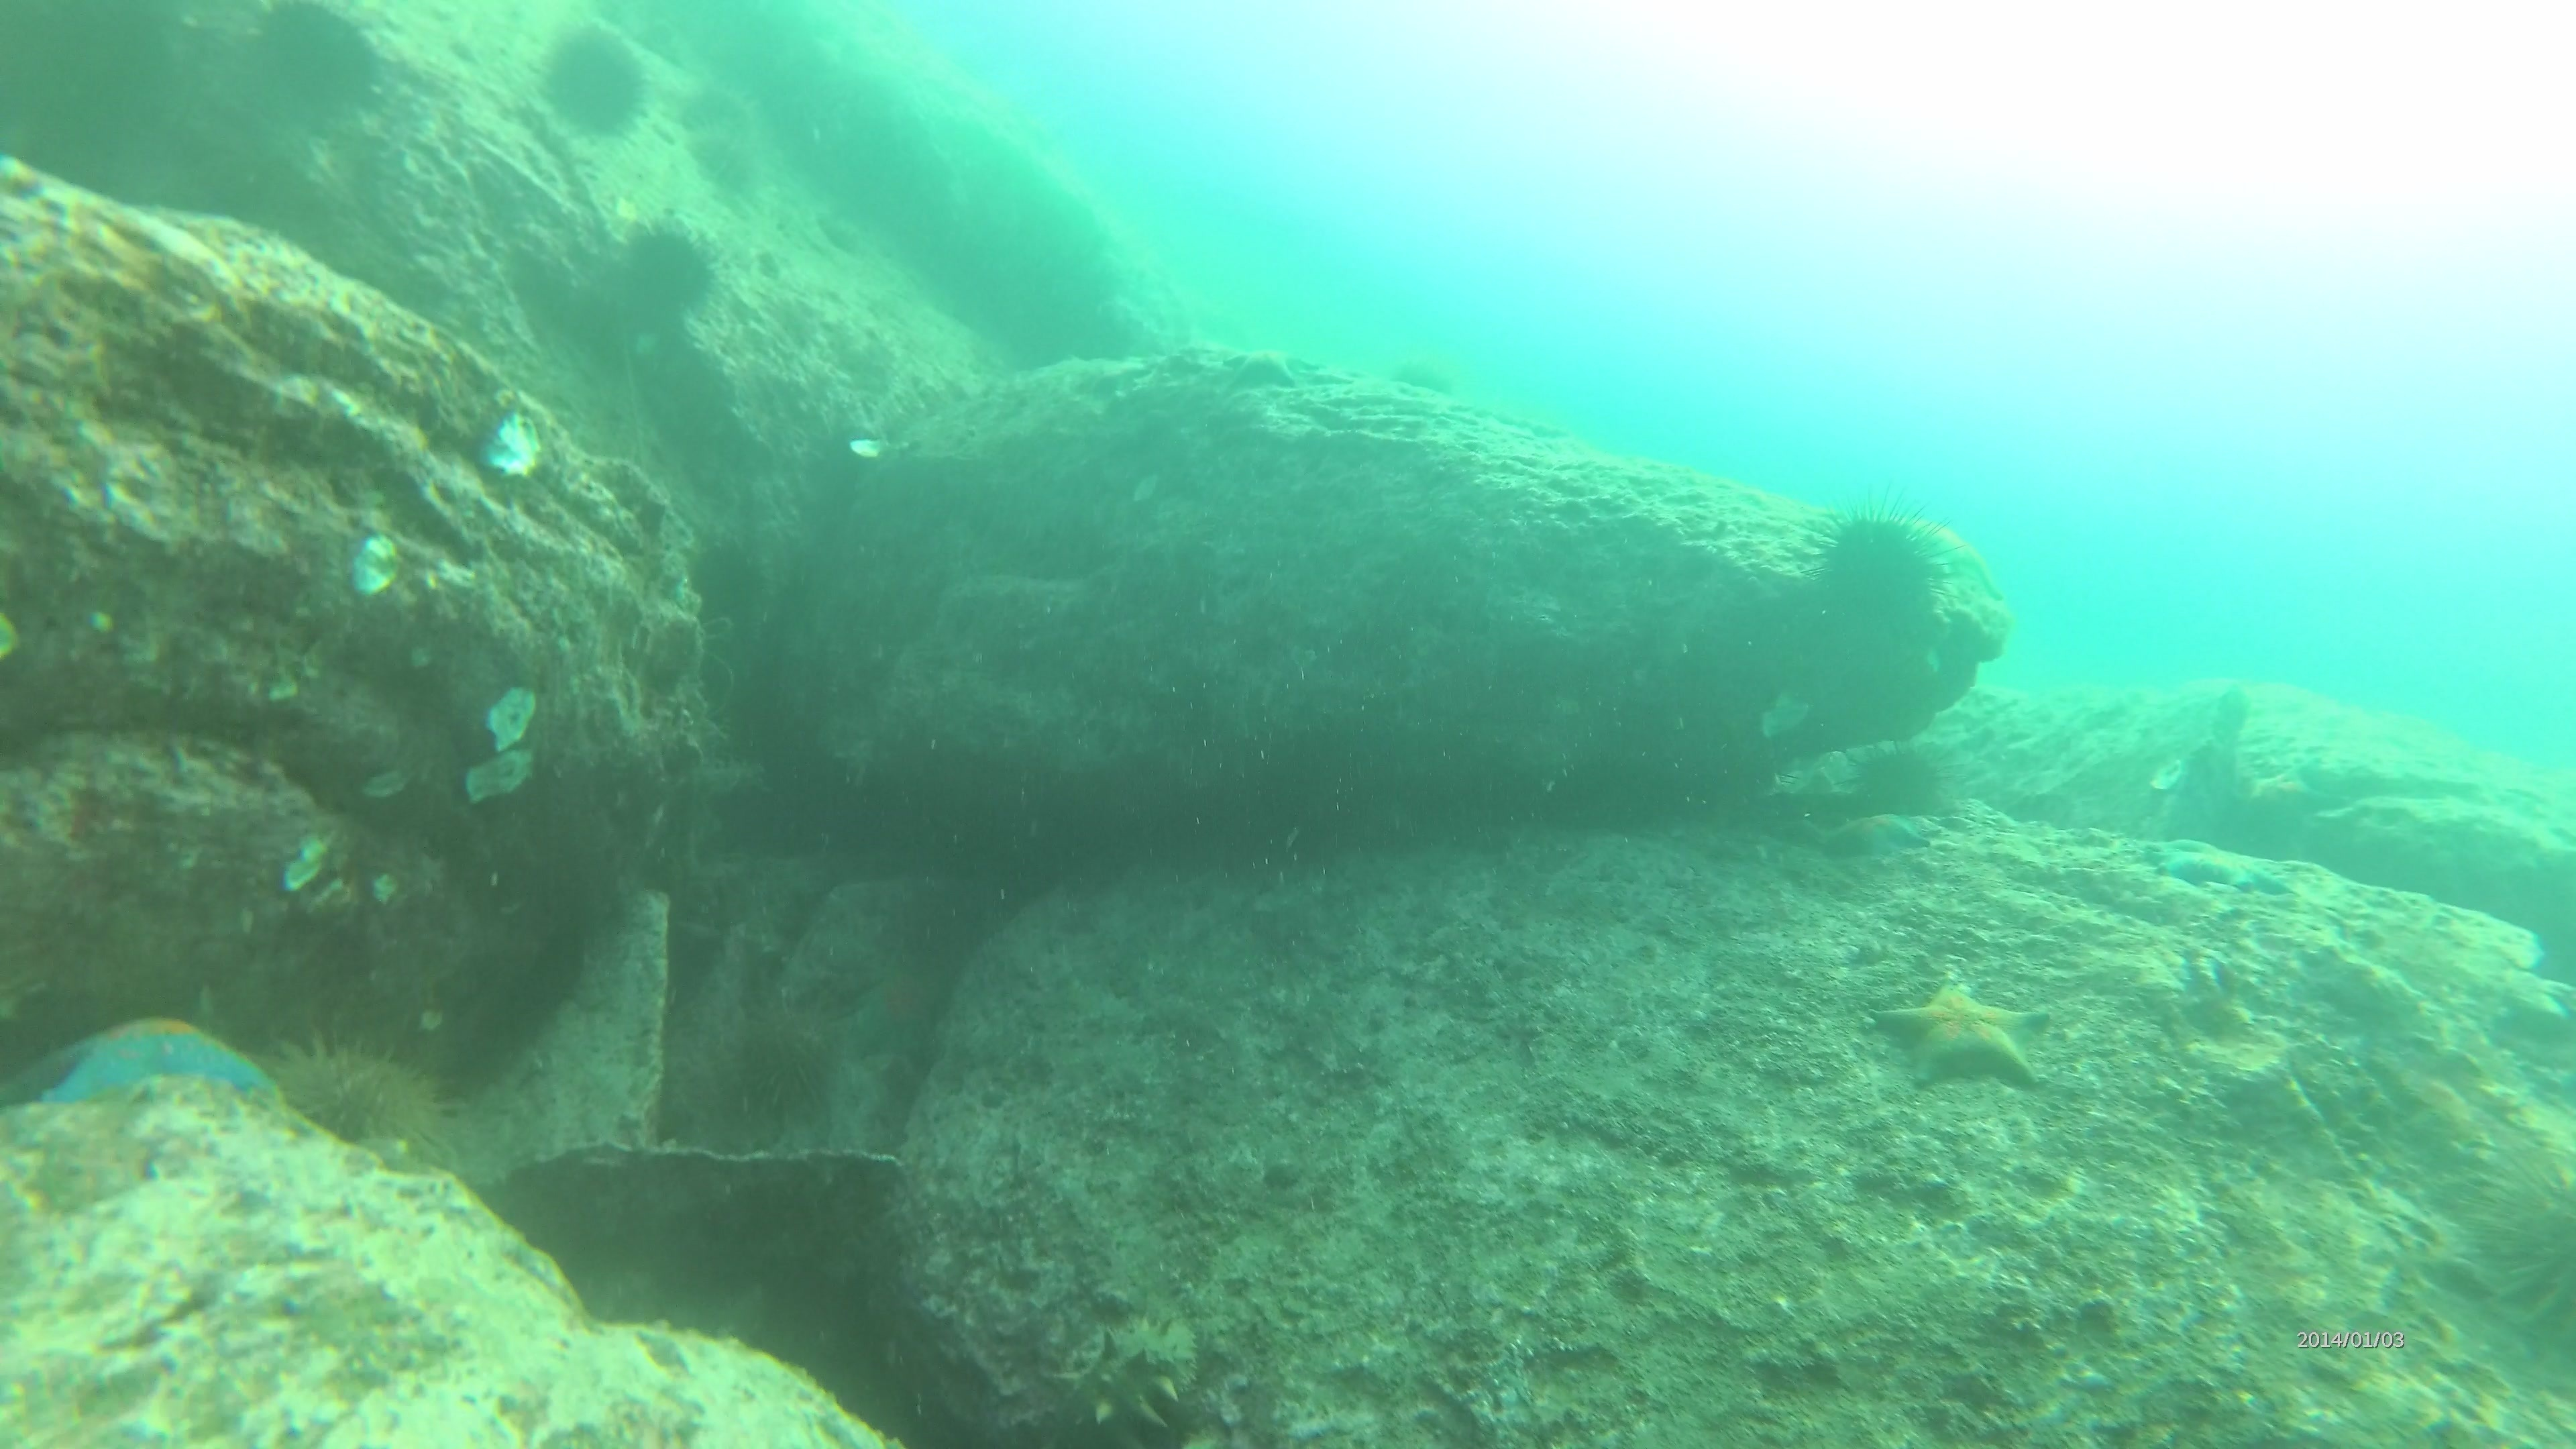echinus: (264, 1028, 460, 1166), (1799, 492, 1962, 653), (2461, 1138, 2576, 1346), (232, 2, 391, 136), (717, 989, 853, 1132), (533, 23, 658, 145), (605, 214, 725, 338), (1833, 734, 1960, 833), (676, 78, 748, 143), (692, 127, 757, 189), (1396, 350, 1453, 395)
holothurian: (1031, 1302, 1212, 1442)
starfish: (12, 1014, 290, 1123), (1863, 964, 2054, 1097), (837, 941, 962, 1067), (2148, 833, 2298, 904), (1812, 801, 1948, 869), (2235, 755, 2335, 830), (1208, 340, 1325, 398)
